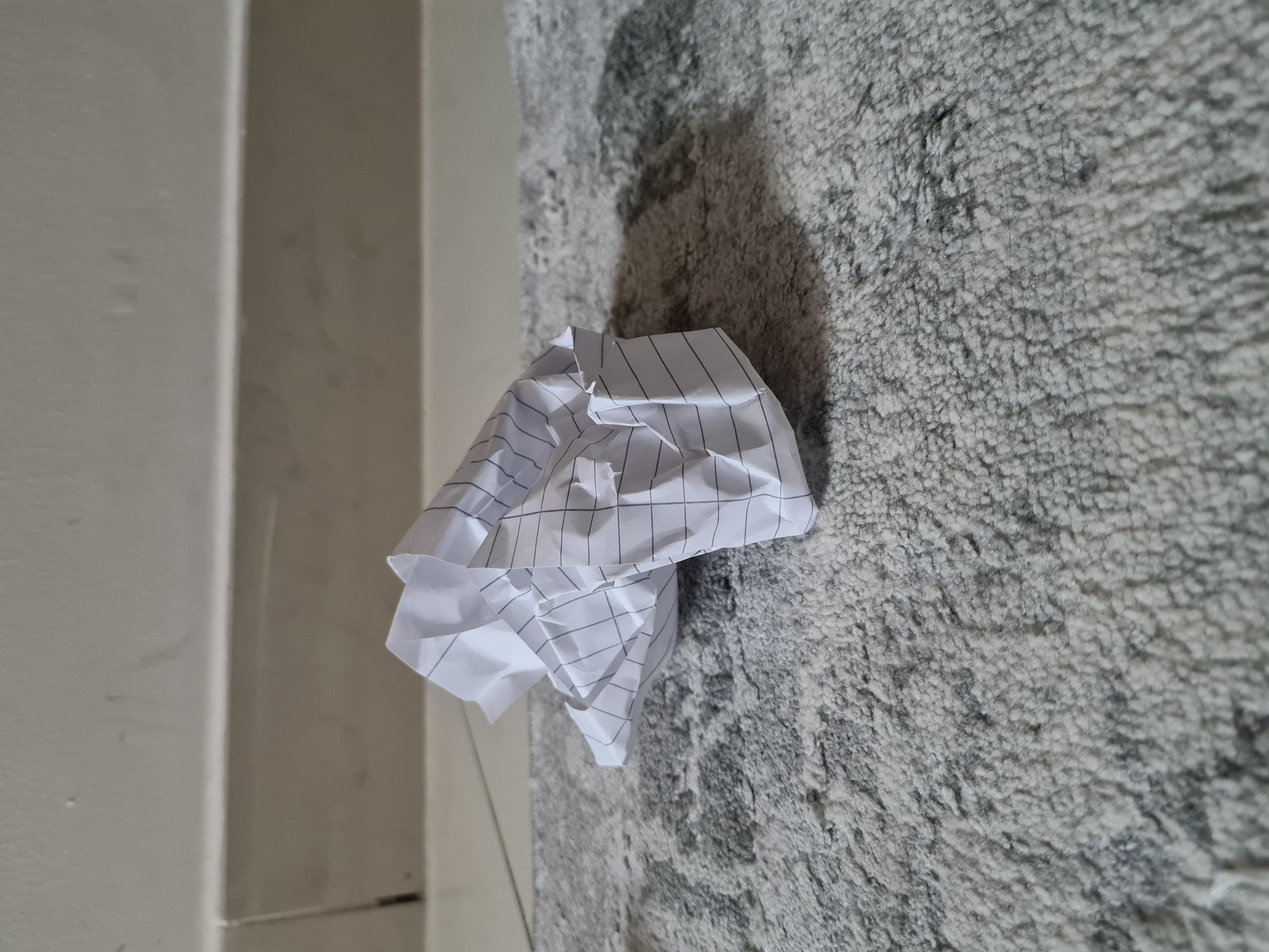paper: (253, 284, 862, 629)
